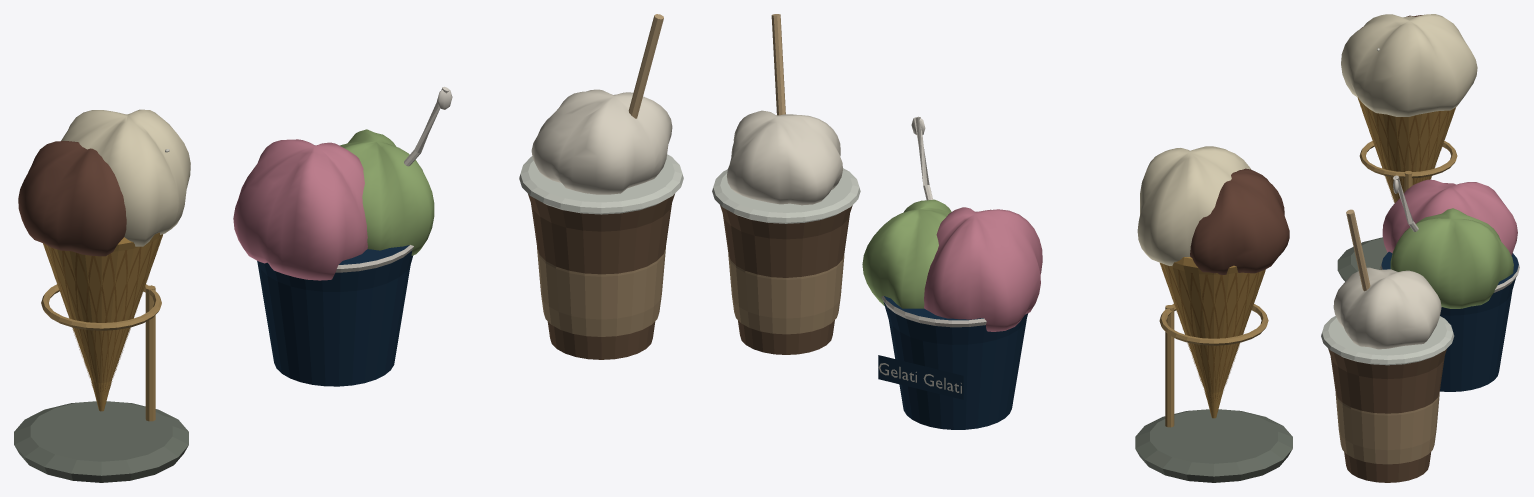
Rendered from serve.glb.
3 views of the same model, side by side, from view 1: azimuth 30°, elevation 25°; view 2: azimuth 150°, elevation 25°; view 3: azimuth 270°, elevation 25° (orthographic). The views are drawn at different scales.
Visible parts, largest first — view 1: Gelati_serve; view 2: Gelati_serve; view 3: Gelati_serve.
Part boxes in pixels (x1,y1,x2,y2): Gelati_serve: (14, 14, 683, 482); Gelati_serve: (712, 14, 1292, 482); Gelati_serve: (1321, 14, 1519, 482).
Size of the model in its own units: 0.57 by 0.2839 by 0.191.
